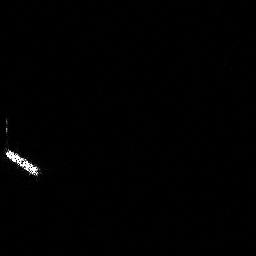ship: (5, 148, 39, 176)
